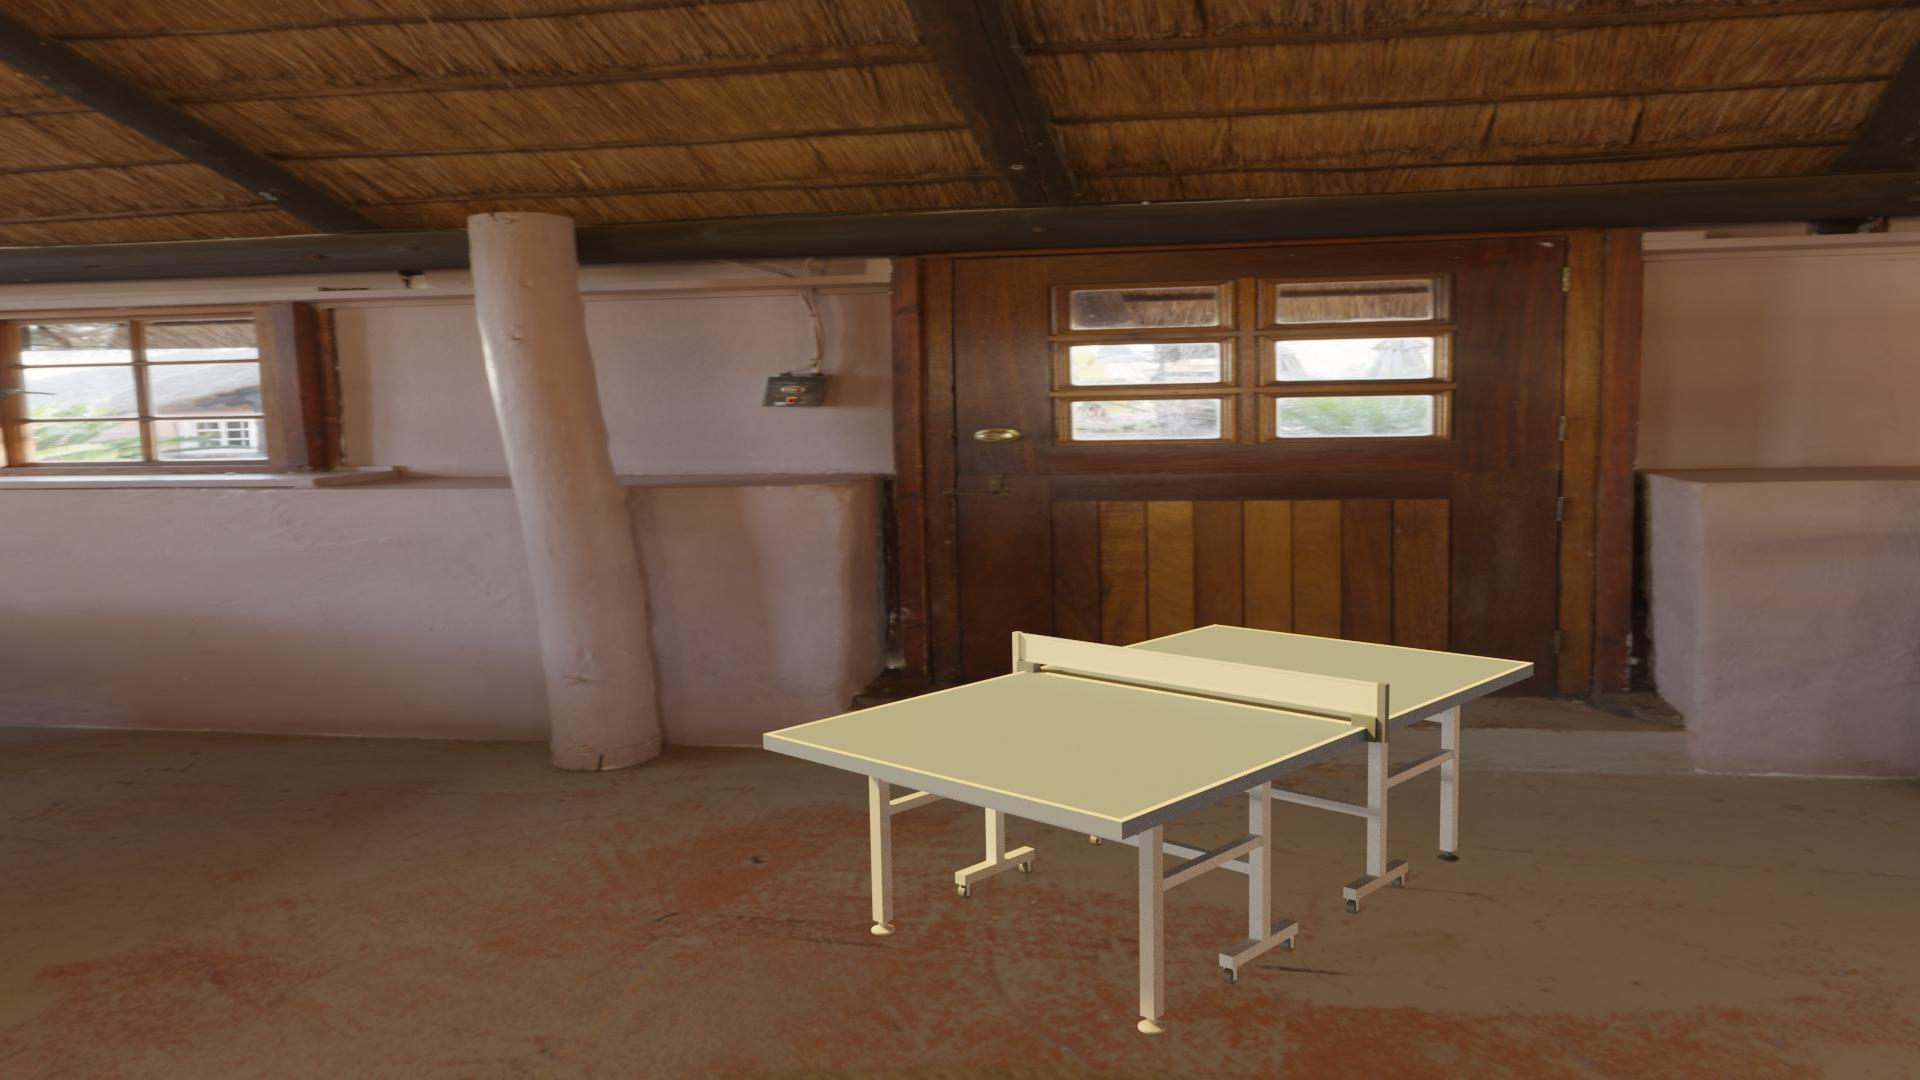table: (771, 626, 1527, 819)
